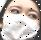with_mask: (1, 2, 41, 40)
